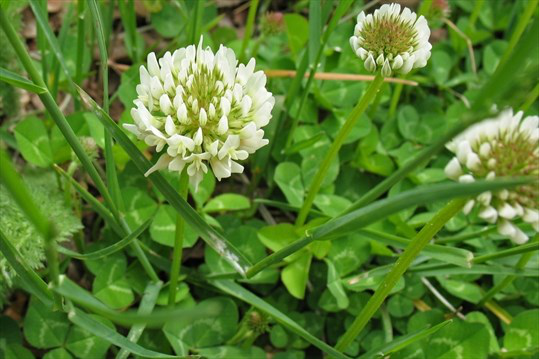clover: (9, 170, 526, 359), (133, 32, 279, 184), (439, 96, 537, 232), (349, 1, 437, 81)
